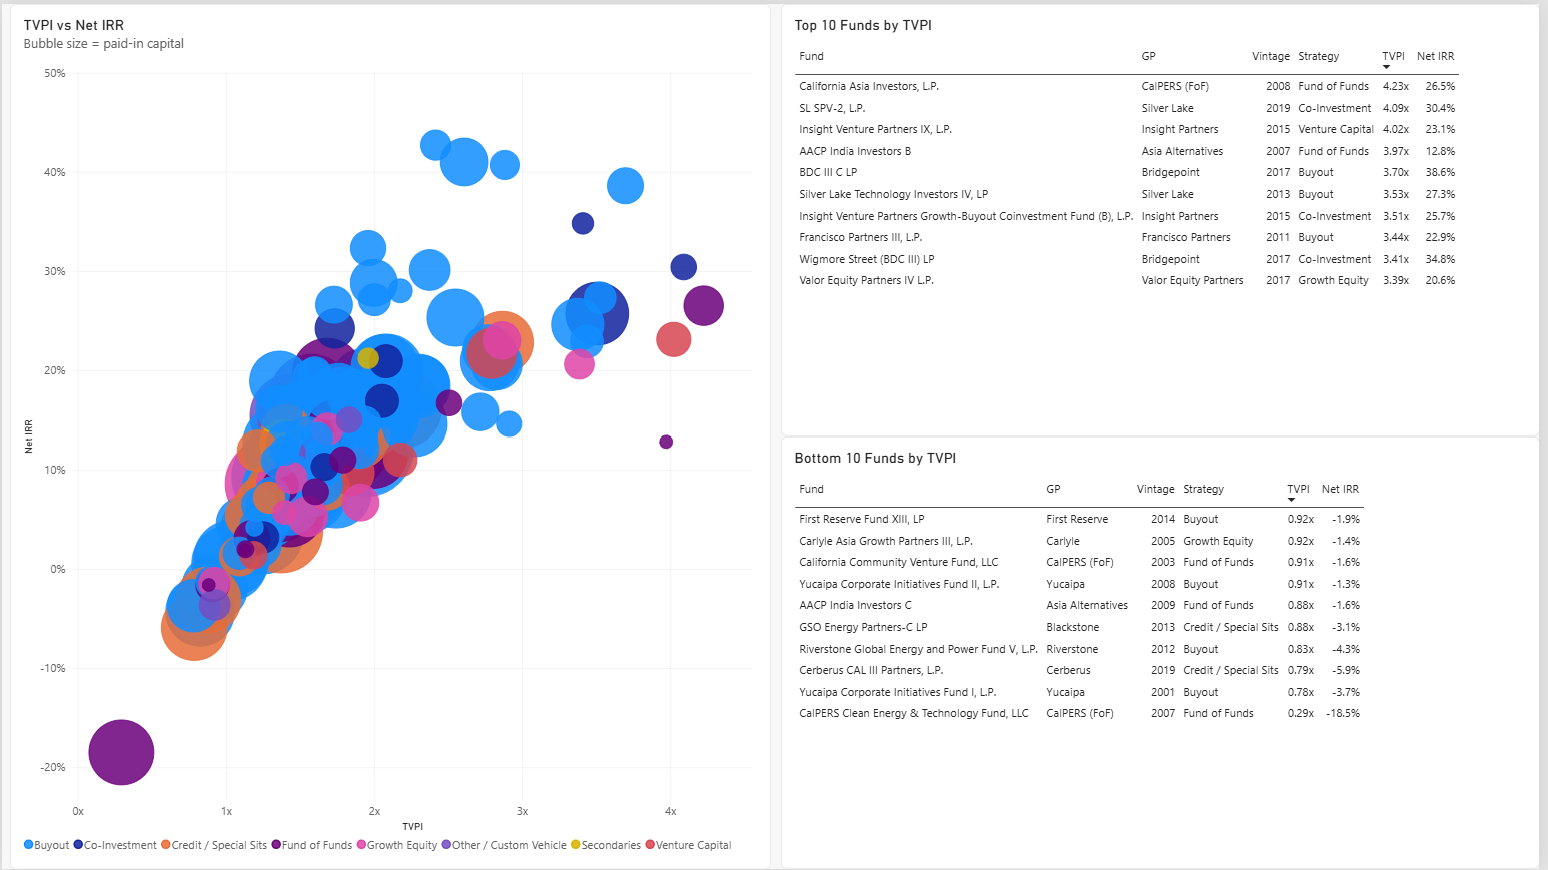

What the dashboard file says about the page in this screenshot:
{"tool":"powerbi","page":{"name":"Fund Drill-down","canvas":[1920,1080],"ordinal":2},"visuals":[{"type":"scatterChart","title":"TVPI vs Net IRR","fields":{"Category":["calpers_funds_clean.fund_name"],"Series":["calpers_funds_clean.strategy"],"Size":["Sum(calpers_funds_clean.paid_in)"],"X":["Sum(calpers_funds_clean.tvpi)"],"Y":["Sum(calpers_funds_clean.net_irr)"]},"box":[9.1,0,950.9,1080.6],"z":0},{"type":"tableEx","title":"Top 10 Funds by TVPI","fields":{"Values":["calpers_funds_clean.fund_name","calpers_funds_clean.gp_name","calpers_funds_clean.vintage_year","calpers_funds_clean.strategy","Sum(calpers_funds_clean.tvpi)","Sum(calpers_funds_clean.net_irr)"]},"box":[971.4,0,948.6,539.6],"z":1},{"type":"tableEx","title":"Bottom 10 Funds by TVPI","fields":{"Values":["calpers_funds_clean.fund_name","calpers_funds_clean.gp_name","calpers_funds_clean.vintage_year","calpers_funds_clean.strategy","Sum(calpers_funds_clean.tvpi)","Sum(calpers_funds_clean.net_irr)"]},"box":[971.4,539.6,948.6,539.6],"z":2}]}

Visuals, with their boxes in screenshot pixels (x1, y1, x2, y2), scaled from the page's 1920x1080 canvas onto the 1548x870 screenshot:
"TVPI vs Net IRR" scatterChart: detection(7, 0, 774, 869)
"Top 10 Funds by TVPI" tableEx: detection(783, 0, 1547, 435)
"Bottom 10 Funds by TVPI" tableEx: detection(783, 435, 1547, 869)
